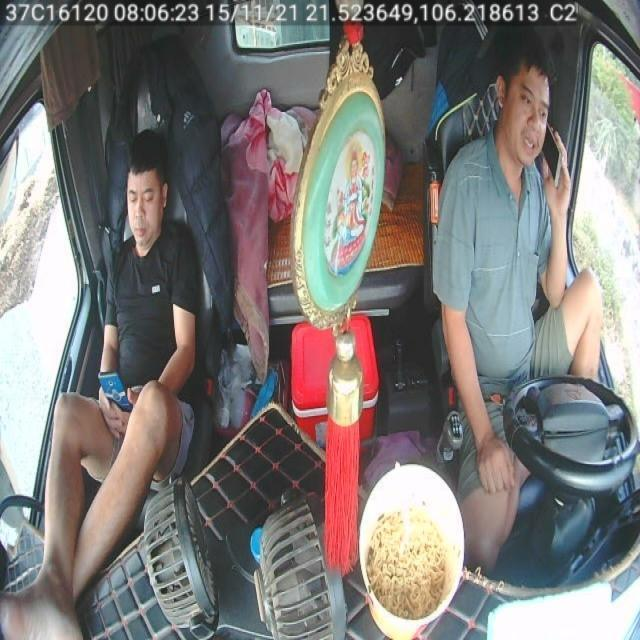phone: (542, 127, 564, 187)
